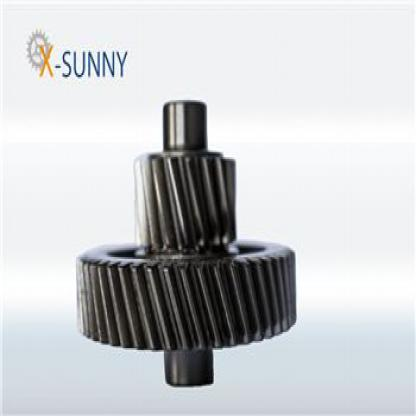FOD: (68, 92, 300, 390)
